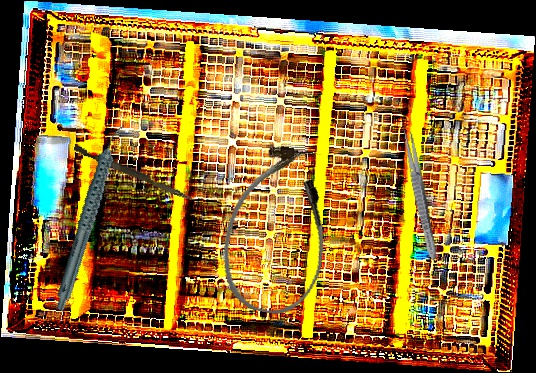Cannula: (210, 138, 346, 322)
Dressing Forceps: (399, 125, 440, 261)
Handpiece: (19, 122, 162, 312)
Pusher: (72, 144, 197, 203)
